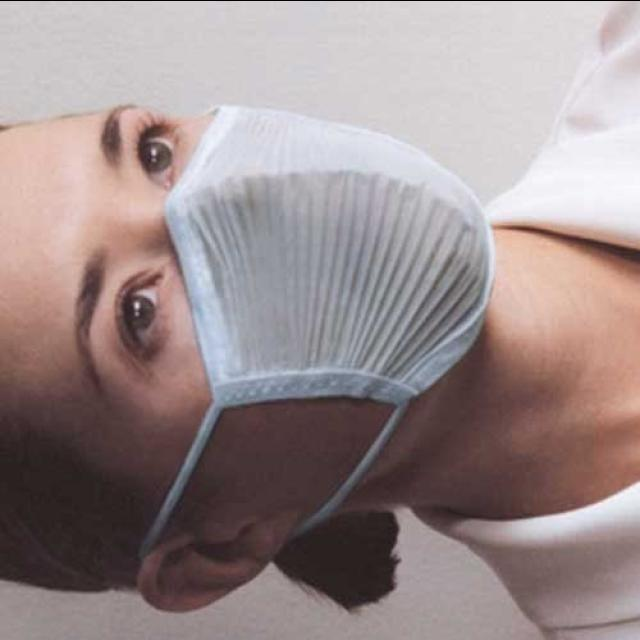mask: (61, 98, 493, 504)
